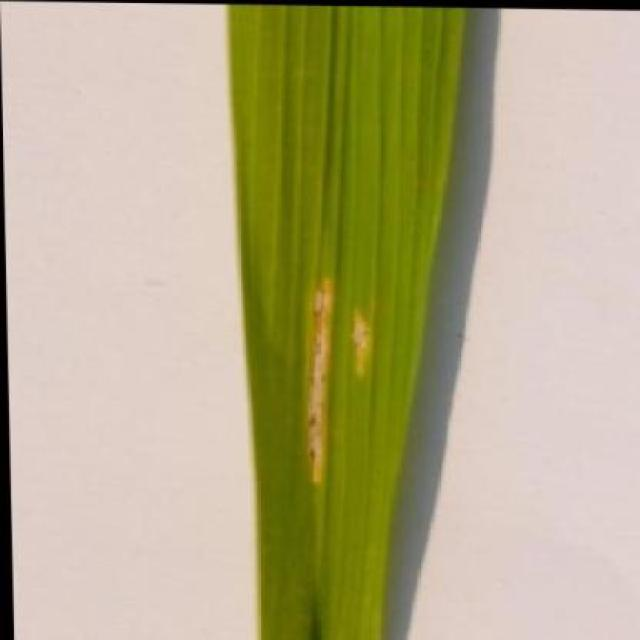Brown_Spot: (194, 1, 514, 640)
